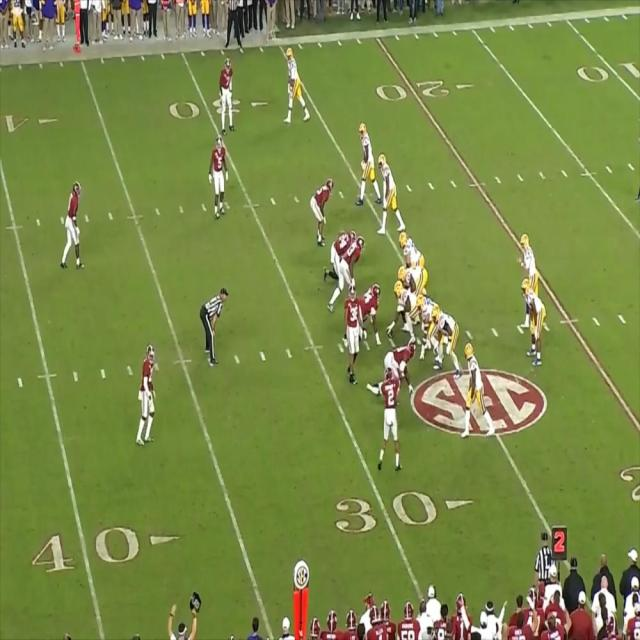center: (392, 283, 417, 335)
db: (382, 363, 398, 459), (64, 184, 81, 270), (140, 342, 154, 441), (213, 136, 229, 219), (221, 58, 237, 128)
lb: (337, 236, 366, 305), (347, 296, 363, 380), (310, 179, 330, 245)
qb: (522, 233, 538, 281)
skill: (465, 345, 492, 432), (526, 284, 547, 364), (379, 154, 400, 231), (284, 46, 305, 120), (358, 123, 375, 199)
